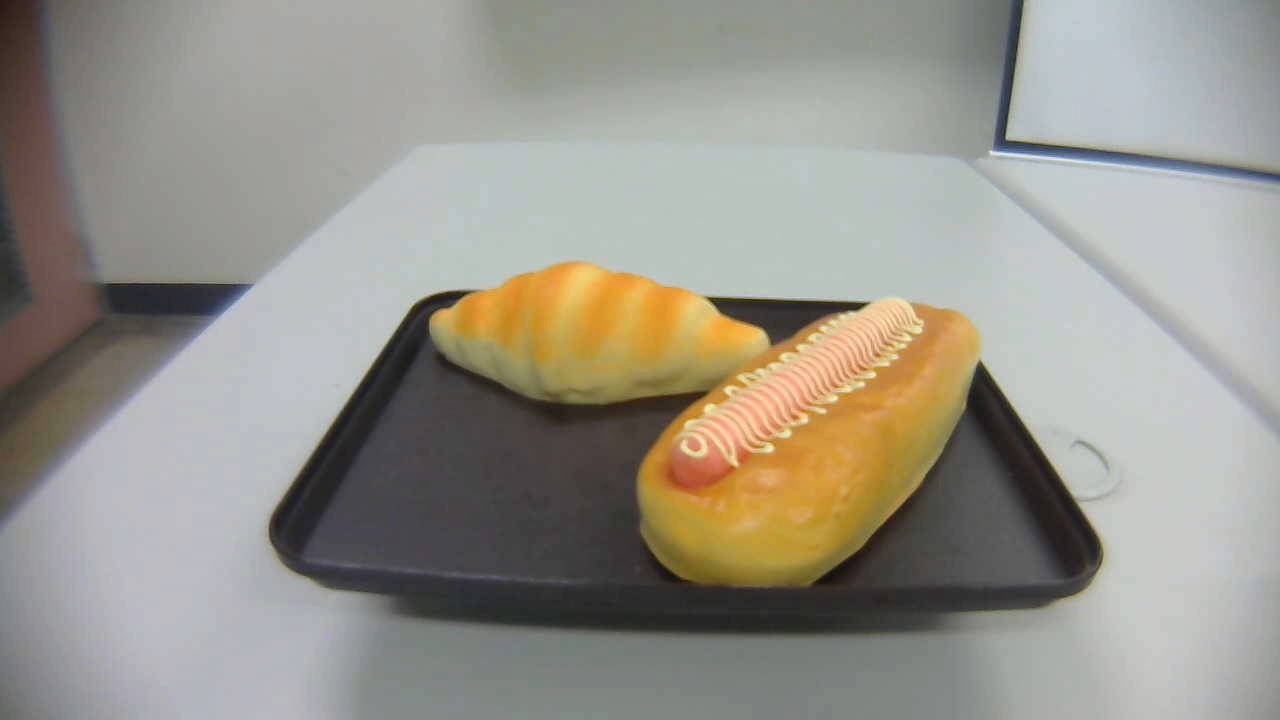croissant: (429, 258, 774, 404)
hot dog: (638, 297, 981, 589)
